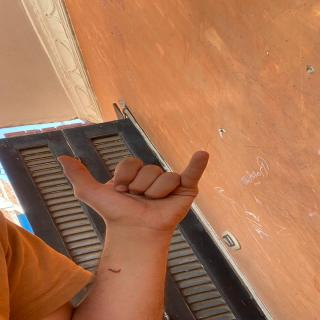YA: (49, 140, 221, 232)
